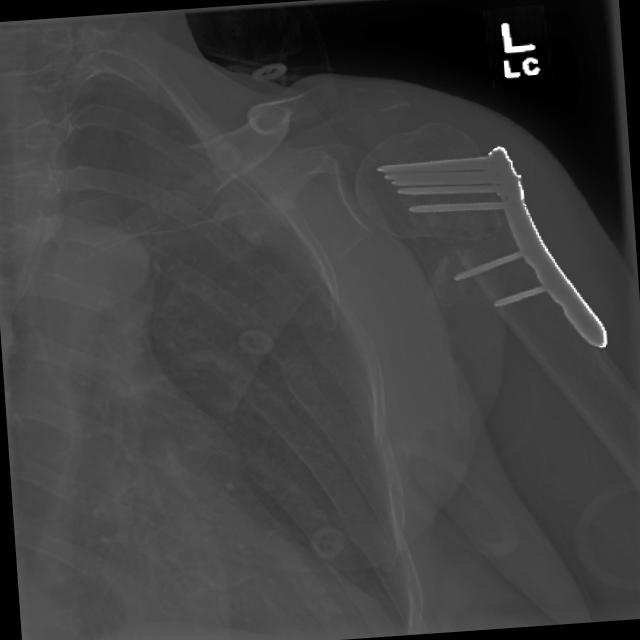forearm fracture: (401, 214, 560, 270)
